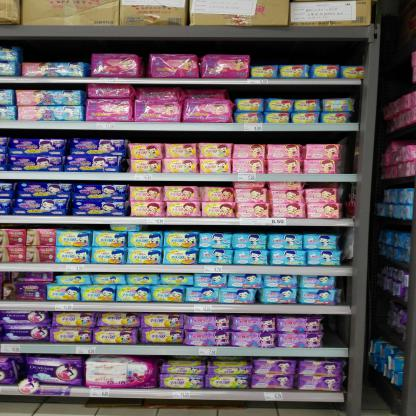Void: (91, 38, 251, 53), (259, 41, 365, 62), (21, 42, 86, 61), (238, 87, 357, 95), (325, 318, 349, 346)
